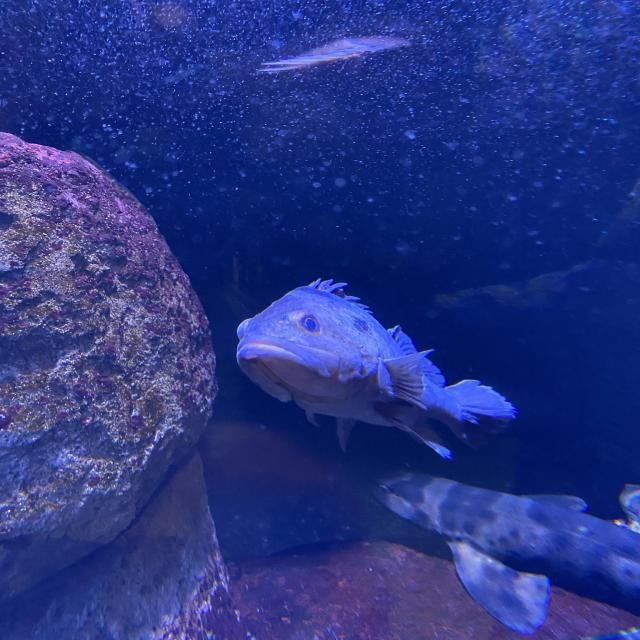fish: (237, 279, 518, 461), (368, 468, 640, 634)
